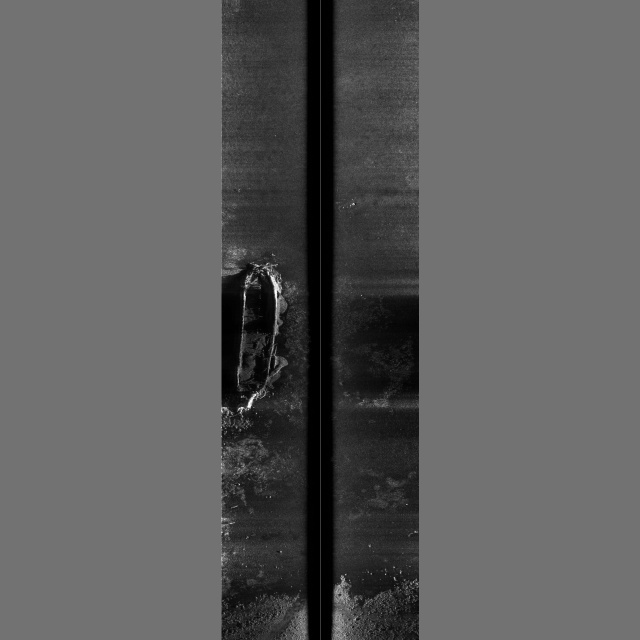Shipwreck: (237, 253, 283, 415)
